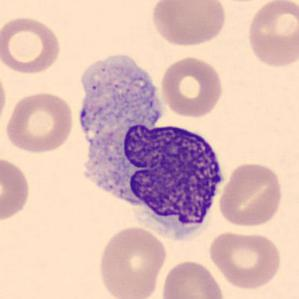Monocyte: (76, 112, 230, 245), (72, 42, 170, 223)
RBC: (95, 224, 168, 299), (206, 228, 284, 291), (216, 160, 285, 229), (3, 90, 76, 155), (159, 54, 225, 120), (0, 14, 63, 76), (149, 0, 228, 48), (245, 0, 298, 69), (158, 258, 228, 299), (0, 154, 32, 225)
